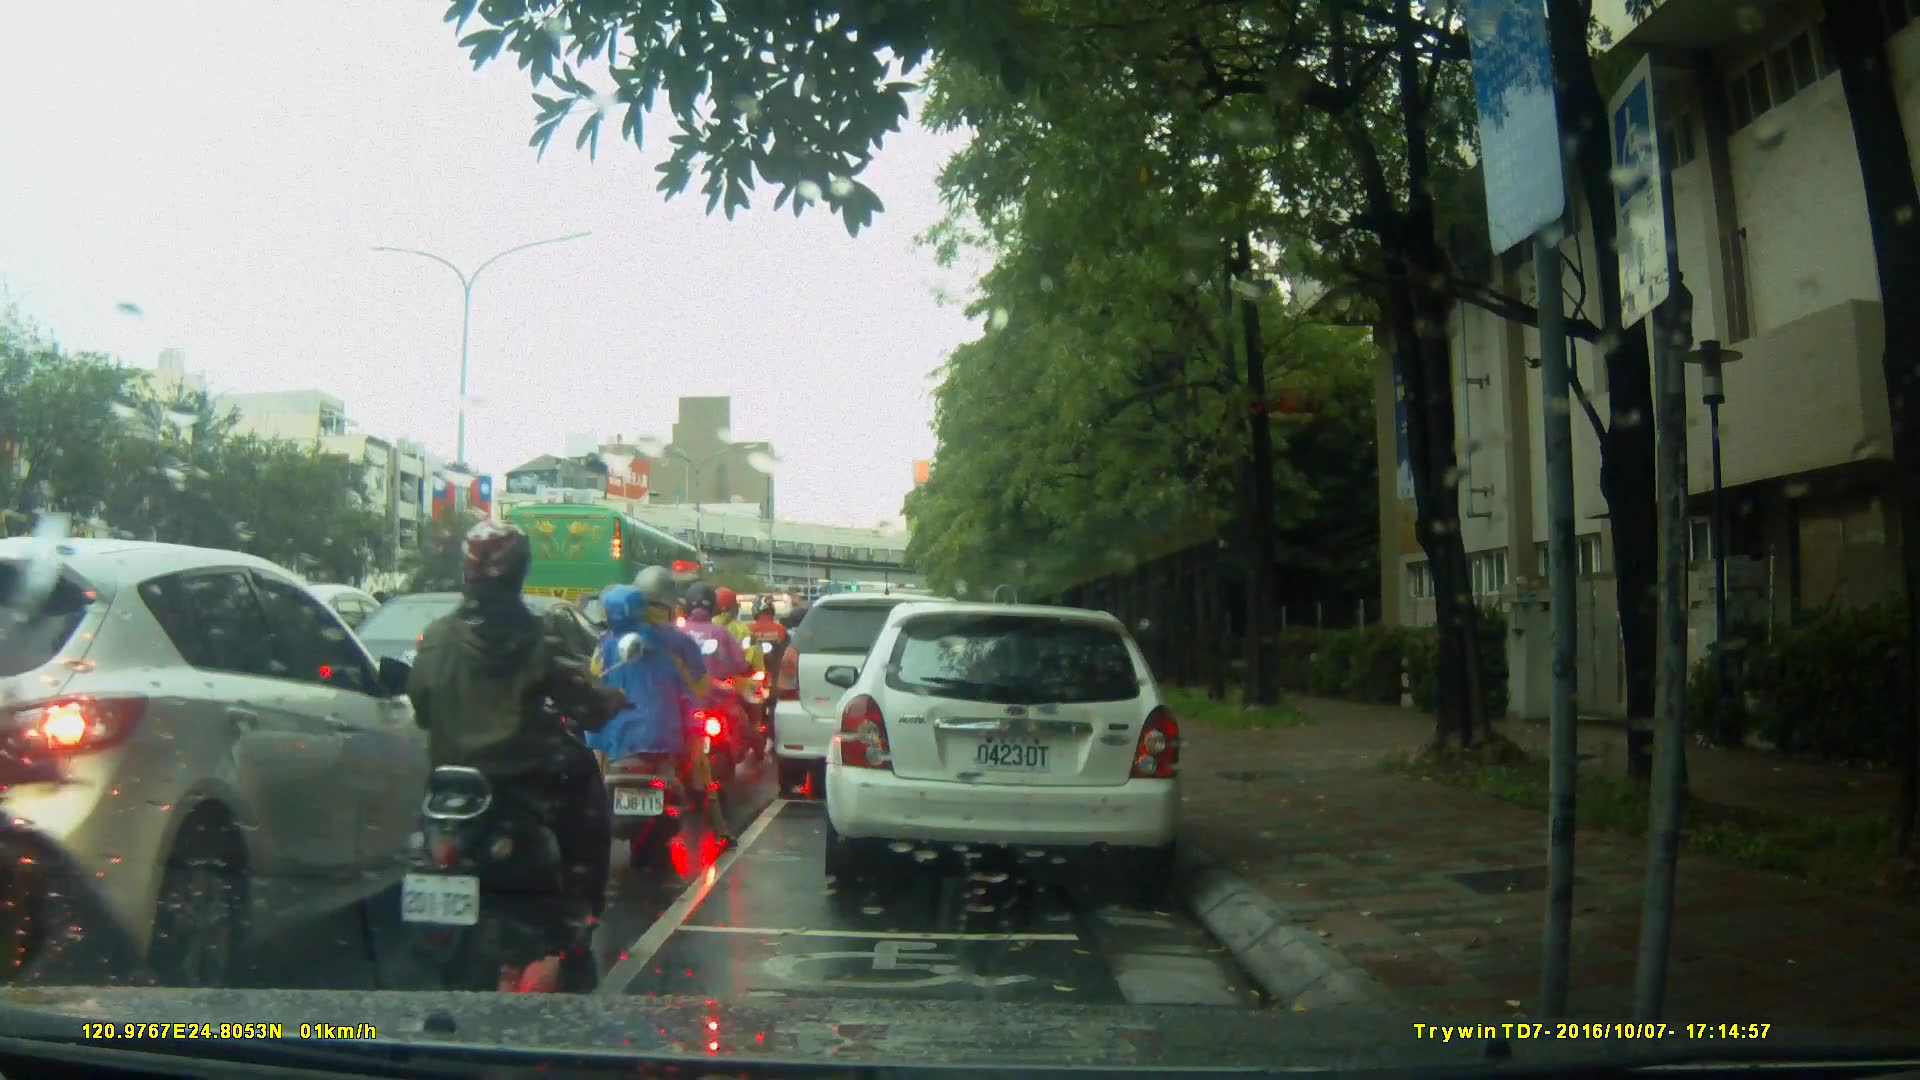rider: (374, 510, 628, 1010), (590, 567, 724, 852), (667, 585, 738, 790), (701, 587, 776, 780), (741, 592, 792, 738)
vehicle: (4, 535, 468, 988), (831, 592, 1196, 897), (313, 589, 629, 776), (770, 590, 999, 804), (501, 503, 709, 636)
